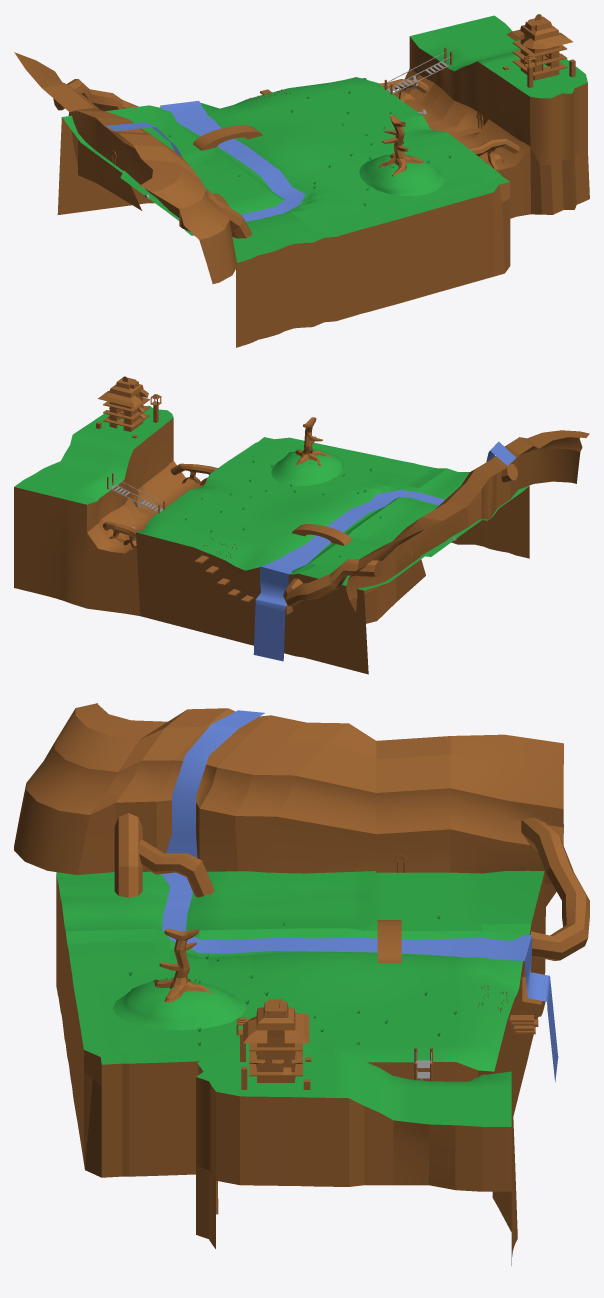
File: level 1 12-3.fbx
3 renders of one model, top to bottom at view 1: azimuth 30°, elevation 25°; view 2: azimuth 150°, elevation 25°; view 3: azimuth 270°, elevation 25°, orthographic. The views are drawn at different scales.
Parts seen in each view (by area): view 1: Ground, pPlane2, Water, polySurface9, pSphere65, pCylinder28, Hill_Tree, pPipe1, pCylinder26, pCylinder24, pCylinder27; view 2: Ground, pPlane2, Water, polySurface9, pSphere65, pCylinder28, pPipe1, Hill_Tree, pCylinder26, pCylinder27; view 3: Ground, pPlane2, Water, polySurface9, pCylinder28, pSphere65, pCylinder24, pCylinder25, Hill_Tree, pPipe1.
Part boxes in pixels (<box>): Ground: <box>57,15,589,347</box>; pPlane2: <box>14,52,237,283</box>; Water: <box>105,100,305,221</box>; polySurface9: <box>502,14,575,87</box>; pSphere65: <box>359,154,443,196</box>; pCylinder28: <box>53,79,138,111</box>; Hill_Tree: <box>378,115,423,176</box>; pPipe1: <box>193,125,262,150</box>; pCylinder26: <box>469,138,519,168</box>; pCylinder24: <box>219,201,251,238</box>; pCylinder27: <box>379,79,428,102</box>; Ground: <box>14,405,529,674</box>; pPlane2: <box>346,430,589,623</box>; Water: <box>253,441,515,661</box>; polySurface9: <box>96,376,161,438</box>; pSphere65: <box>271,449,344,486</box>; pCylinder28: <box>283,559,382,606</box>; pPipe1: <box>292,524,351,545</box>; Hill_Tree: <box>294,417,331,466</box>; pCylinder26: <box>170,463,217,485</box>; pCylinder27: <box>102,521,138,547</box>; Ground: <box>56,870,545,1265</box>; pPlane2: <box>14,703,563,909</box>; Water: <box>162,710,558,1082</box>; polySurface9: <box>236,998,311,1089</box>; pCylinder28: <box>521,817,589,960</box>; pSphere65: <box>113,979,245,1030</box>; pCylinder24: <box>114,813,142,897</box>; pCylinder25: <box>139,839,214,897</box>; Hill_Tree: <box>153,928,213,1002</box>; pPipe1: <box>377,920,401,963</box>.
Size of the model in its own units: 530 by 201 by 387.
